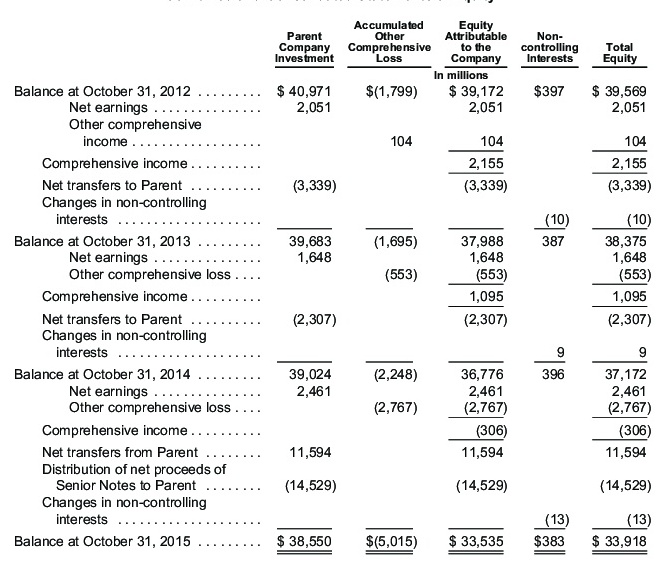table: (0, 0, 666, 568)
